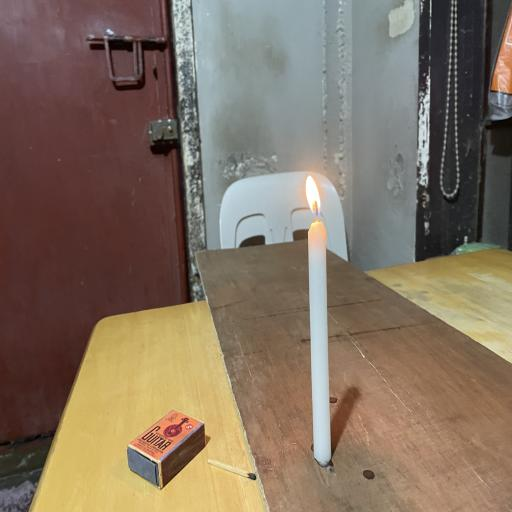fire: (294, 172, 329, 219)
